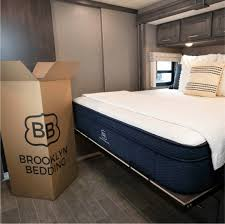bed-matress: (72, 82, 225, 193)
